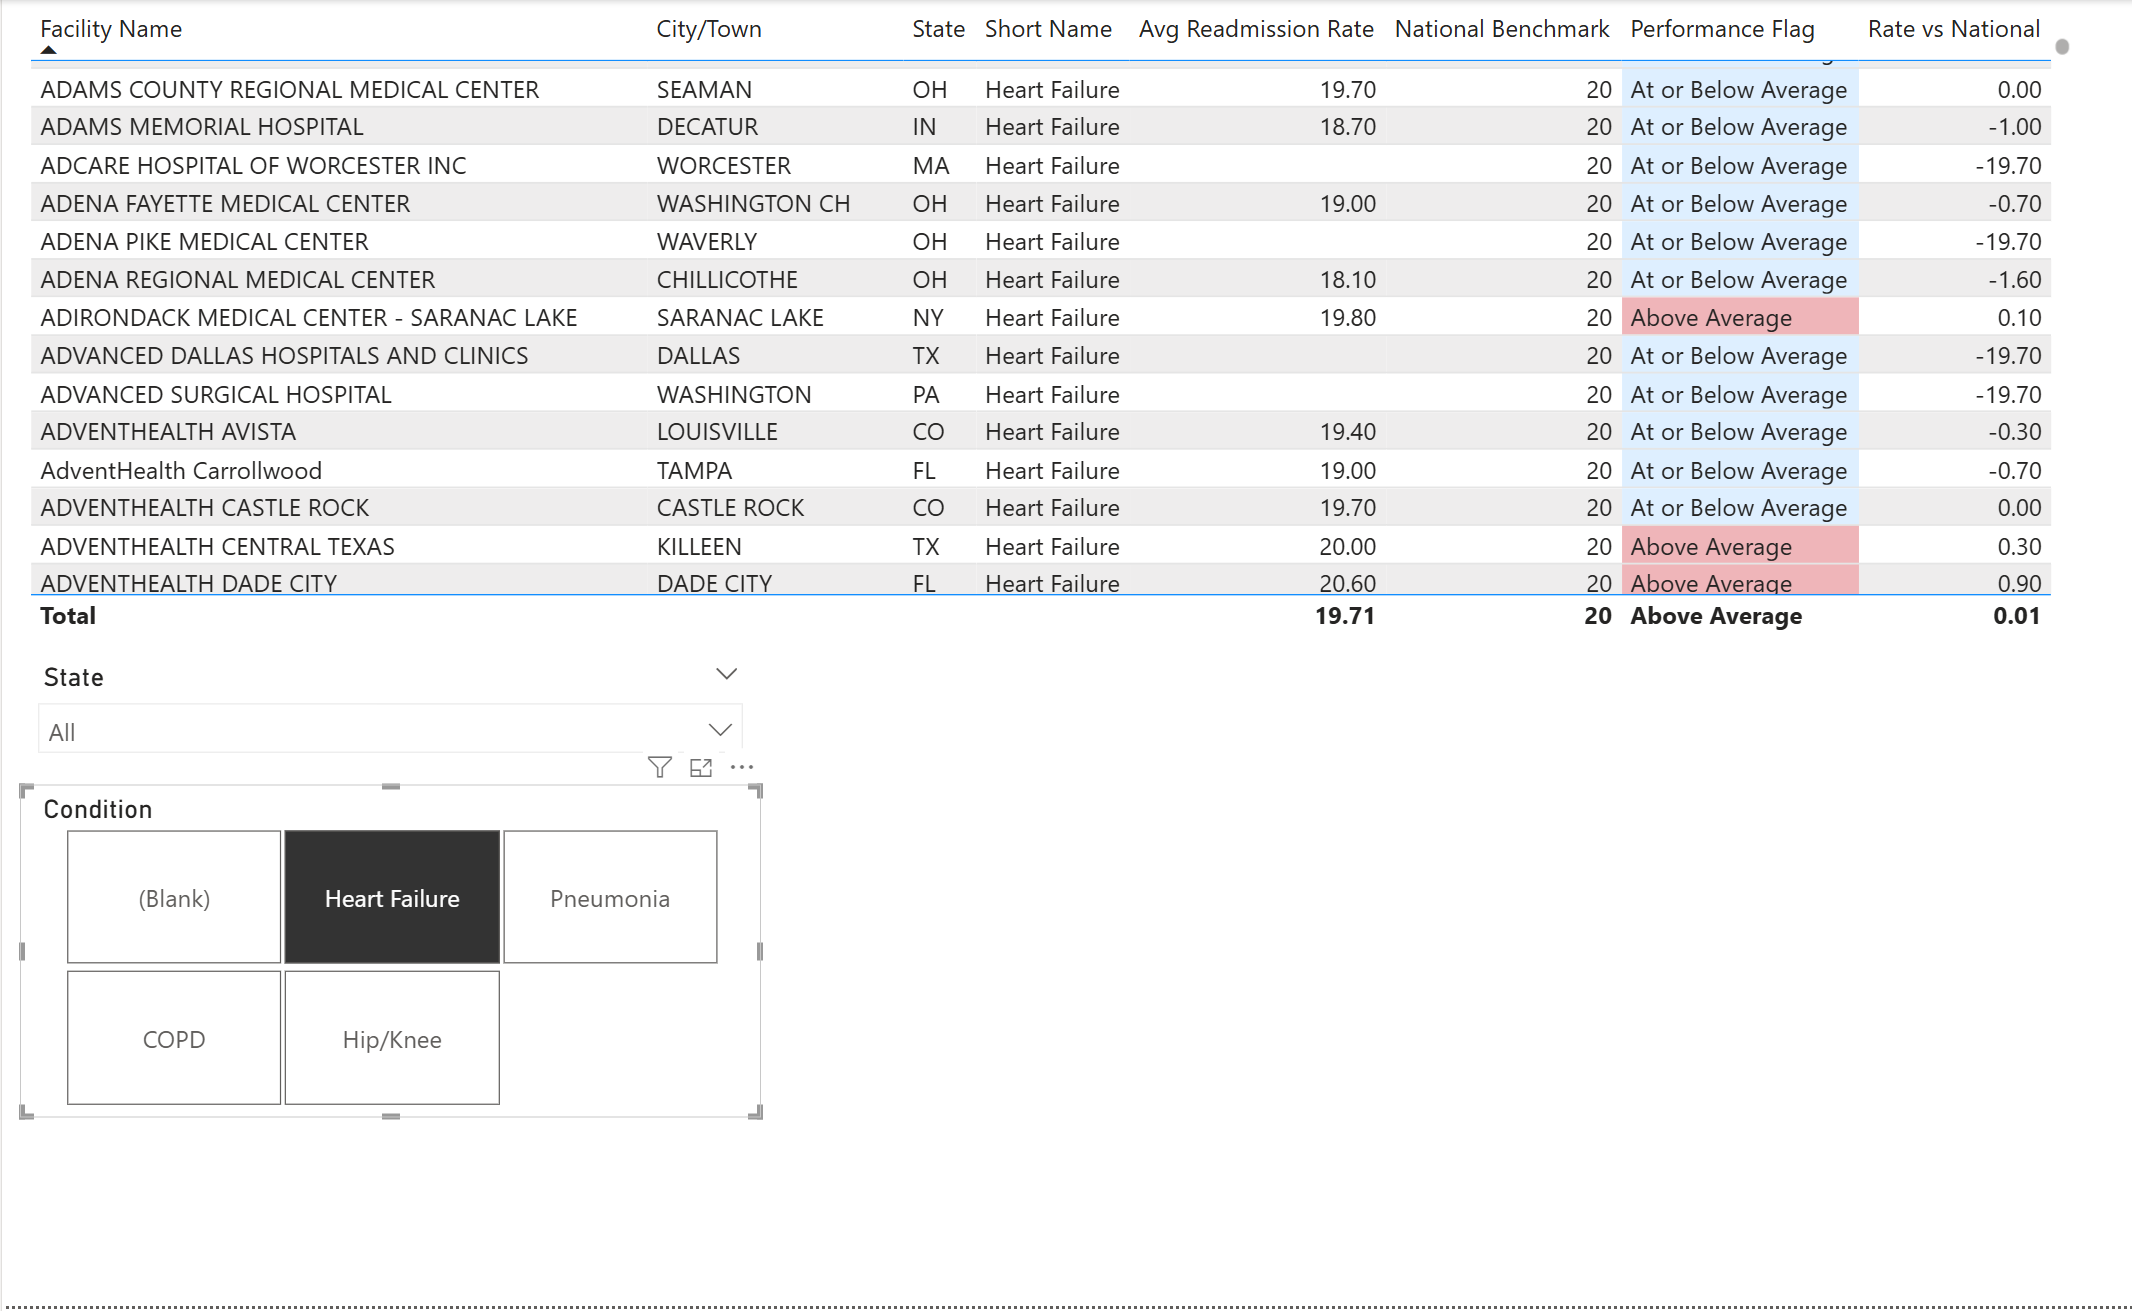

Layout of this report page (visuals, bound fields, positions):
{"tool":"powerbi","page":{"name":"Facility Breakdown","canvas":[1280,720],"ordinal":1},"visuals":[{"type":"tableEx","fields":{"Values":["Hospital_General_Information.Facility Name","Hospital_General_Information.City/Town","Hospital_General_Information.State","DimCondition.Short Name","_Measures.Avg Readmission Rate","_Measures.National Benchmark","_Measures.Performance Flag","_Measures.Rate vs National"]},"box":[9.9,0,1135.8,353.2],"z":0},{"type":"slicer","fields":{"Values":["Hospital_General_Information.State"]},"box":[9.9,359.8,408.7,72.8],"z":1},{"type":"slicer","fields":{"Values":["DimCondition.Short Name"]},"box":[9.9,432.6,408.7,183.6],"z":2}]}

Visuals, with their boxes on the page's 1280x720 design canvas (x1, y1, x2, y2). These are canvas units, not pixel positions in the 2132x1311 screenshot, which may show the page scaled, cropped or inside an application window:
tableEx - Hospital_General_Information.Facility Name x Hospital_General_Information.City/Town: box=[10, 0, 1146, 353]
slicer - Hospital_General_Information.State: box=[10, 360, 419, 433]
slicer - DimCondition.Short Name: box=[10, 433, 419, 616]
